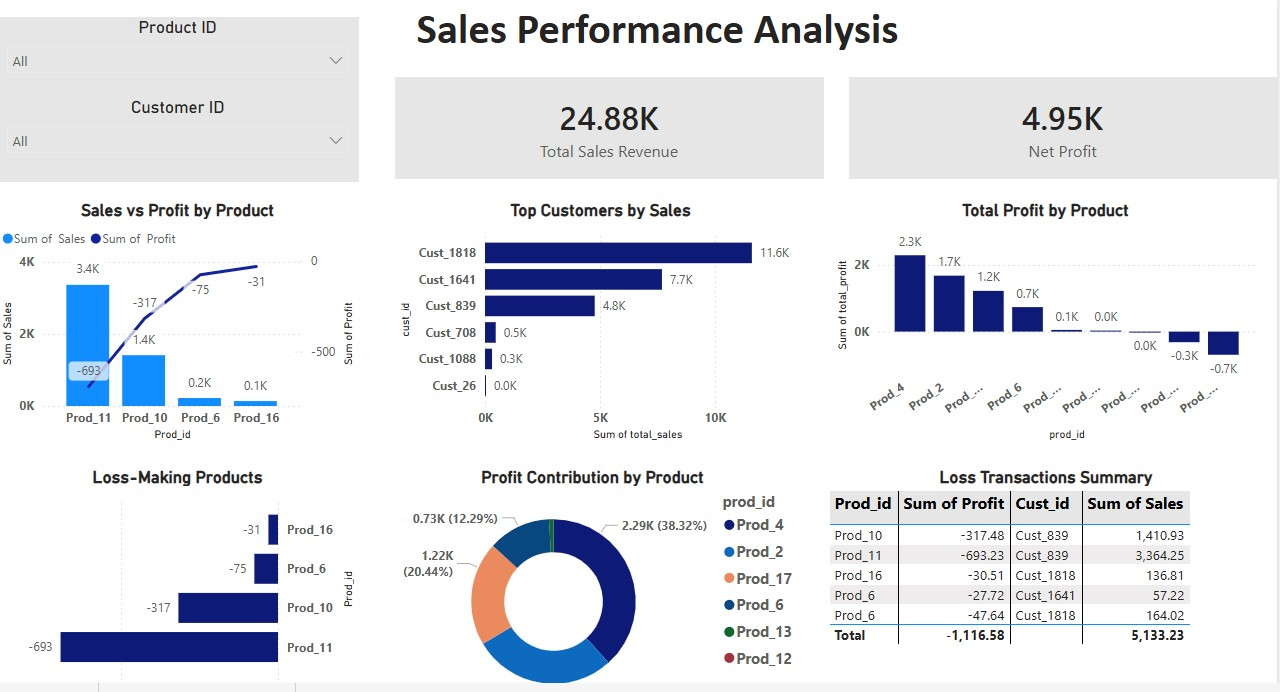

The dashboard page shown, as its layout file describes it:
{"tool":"powerbi","page":{"name":"Page 1","canvas":[1280,720],"ordinal":0},"visuals":[{"type":"barChart","title":"Top Customers by Sales","fields":{"Y":["Sum(Top Customers. total_sales)"],"Category":["Top Customers.cust_id"]},"box":[398.3,203.3,411.7,245],"z":0},{"type":"clusteredColumnChart","title":" Total Profit by Product","fields":{"Category":["Product profit.prod_id"],"Y":["Sum(Product profit. total_profit)"]},"box":[835,203.3,428.3,245],"z":1000},{"type":"donutChart","title":"Profit Contribution by Product","fields":{"Category":["Product profit.prod_id"],"Y":["Sum(Product profit. total_profit)"]},"box":[381.7,470,428.3,250],"z":2000},{"type":"tableEx","title":"Loss Transactions Summary","fields":{"Values":["Loss Making Transactions. Prod_id","Sum(Loss Making Transactions. Profit)","Loss Making Transactions. Cust_id","Sum(Loss Making Transactions. Sales)"]},"box":[826.7,470,445,205],"z":3000},{"type":"slicer","title":"Product ID","fields":{"Values":["Product profit.prod_id"]},"box":[0,20,361.7,80],"z":5000},{"type":"slicer","title":"Customer ID","fields":{"Values":["Top Customers.cust_id"]},"box":[0,100,361.7,85],"z":6000},{"type":"cardVisual","fields":{"Data":["Sum(Product profit. total_profit)"]},"box":[851.7,80,428.3,101.7],"z":7000},{"type":"textbox","box":[415,0,560,73.3],"z":9000},{"type":"lineStackedColumnComboChart","title":"Sales vs Profit by Product","fields":{"Category":["Loss Making Transactions. Prod_id"],"Y2":["Sum(Loss Making Transactions. Profit)"],"Y":["Sum(Loss Making Transactions. Sales)"]},"box":[0,203.3,361.7,245],"z":10000},{"type":"clusteredBarChart","title":"Loss-Making Products","fields":{"Category":["Loss Making Transactions. Prod_id"],"Y":["Sum(Loss Making Transactions. Profit)"]},"box":[0,470,361.7,250],"z":11000},{"type":"cardVisual","fields":{"Data":["Sum(Top Customers. total_sales)"]},"box":[398.3,80,428.3,101.7],"z":11001}]}

Visuals, with their boxes on the page's 1280x720 design canvas (x1, y1, x2, y2). These are canvas units, not pixel positions in the 1280x692 screenshot, which may show the page scaled, cropped or inside an application window:
"Top Customers by Sales" barChart: <region>398, 203, 810, 448</region>
" Total Profit by Product" clusteredColumnChart: <region>835, 203, 1263, 448</region>
"Profit Contribution by Product" donutChart: <region>382, 470, 810, 720</region>
"Loss Transactions Summary" tableEx: <region>827, 470, 1272, 675</region>
"Product ID" slicer: <region>0, 20, 362, 100</region>
"Customer ID" slicer: <region>0, 100, 362, 185</region>
cardVisual - Sum(Product profit. total_profit): <region>852, 80, 1280, 182</region>
textbox: <region>415, 0, 975, 73</region>
"Sales vs Profit by Product" lineStackedColumnComboChart: <region>0, 203, 362, 448</region>
"Loss-Making Products" clusteredBarChart: <region>0, 470, 362, 720</region>
cardVisual - Sum(Top Customers. total_sales): <region>398, 80, 827, 182</region>
